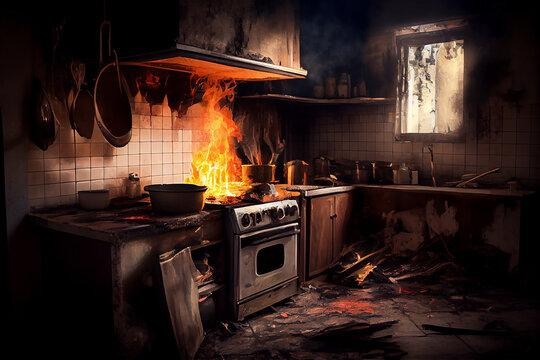fire: (190, 72, 257, 204)
smoke: (302, 17, 345, 82)
